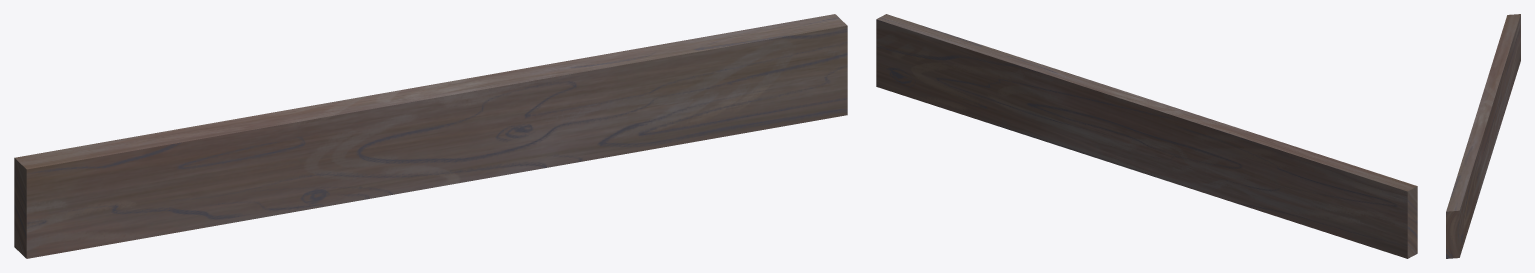
Rendered from long_board_023.fbx.
3 renders of one model, left to right at view 1: azimuth 30°, elevation 25°; view 2: azimuth 150°, elevation 25°; view 3: azimuth 270°, elevation 25°, orthographic. The views are drawn at different scales.
Parts seen in each view (by area): view 1: long board.023; view 2: long board.023; view 3: long board.023.
Boxes of the visible parts, x1,y1,x2,y2 form: long board.023: (14, 14, 847, 258); long board.023: (876, 14, 1417, 258); long board.023: (1446, 14, 1520, 258).
Size of the model in its own units: 90.73 by 10.41 by 14.55.
